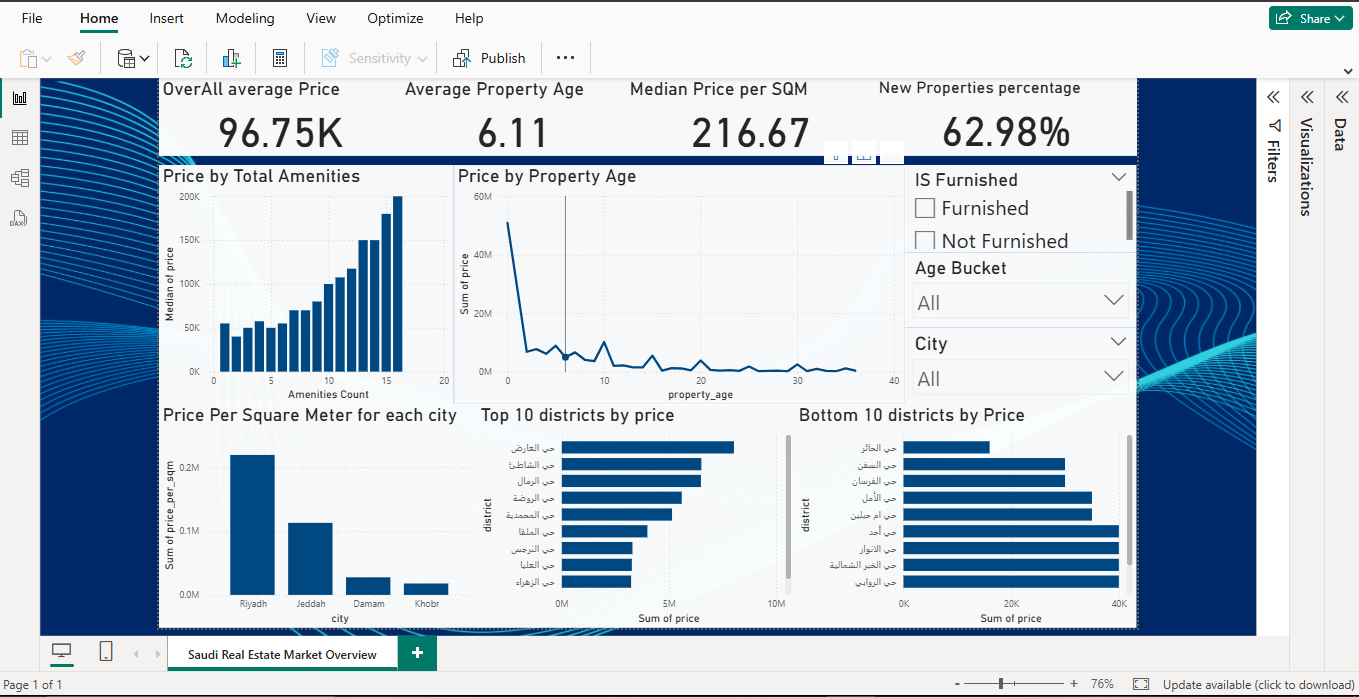

The dashboard page shown, as its layout file describes it:
{"tool":"powerbi","page":{"name":"Saudi Real Estate Market Overview","canvas":[1280,720],"ordinal":0},"visuals":[{"type":"card","title":"OverAll average Price","fields":{"Values":["Avg(SA_Aqar1.price)"]},"box":[0,0,317,101.6],"z":0},{"type":"columnChart","title":"Price Per Square Meter for each city","fields":{"Y":["Sum(SA_Aqar1.price_per_sqm)"],"Category":["SA_Aqar1.city"]},"box":[0,426.7,416.5,292.9],"z":1},{"type":"clusteredBarChart","title":"Top 10 districts by price","fields":{"Y":["Sum(SA_Aqar1.price)"],"Category":["SA_Aqar1.district"]},"box":[416.5,426.7,416.5,292.9],"z":2},{"type":"clusteredBarChart","title":"Bottom 10 districts by Price","fields":{"Y":["Sum(SA_Aqar1.price)"],"Category":["SA_Aqar1.district"]},"box":[833,426.7,447,292.9],"z":3},{"type":"lineChart","title":"Price by Property Age","fields":{"Y":["Sum(SA_Aqar1.price)"],"Category":["SA_Aqar1.property_age"]},"box":[385.9,113.7,590.9,313.5],"z":4},{"type":"clusteredColumnChart","title":"Price by Total Amenities","fields":{"Y":["Median(SA_Aqar1.price)"],"Category":["SA_Aqar1.Amenities Count"]},"box":[0,113.7,385.9,313.5],"z":5},{"type":"slicer","fields":{"Values":["SA_Aqar1.city"]},"box":[976.9,326.8,303.1,99.9],"z":6},{"type":"slicer","fields":{"Values":["SA_Aqar1.Age Bucket"]},"box":[976.9,228.6,303.1,98.2],"z":7},{"type":"slicer","fields":{"Values":["SA_Aqar1.IS Furnished"]},"box":[976.8,113.7,303.2,115.4],"z":8},{"type":"card","title":"Average Property Age","fields":{"Values":["Avg(SA_Aqar1.property_age)"]},"box":[317,0,294.6,101.6],"z":9},{"type":"card","title":"Median Price per SQM","fields":{"Values":["Median(SA_Aqar1.price_per_sqm)"]},"box":[611.6,0,325.6,101.6],"z":10},{"type":"card","title":"New Properties percentage","fields":{"Values":["SA_Aqar1.% New Properties"]},"box":[937.2,0,342.8,101.6],"z":11}]}

Visuals, with their boxes on the page's 1280x720 design canvas (x1, y1, x2, y2). These are canvas units, not pixel positions in the 1359x697 screenshot, which may show the page scaled, cropped or inside an application window:
"OverAll average Price" card: l=0, t=0, r=317, b=102
"Price Per Square Meter for each city" columnChart: l=0, t=427, r=416, b=720
"Top 10 districts by price" clusteredBarChart: l=416, t=427, r=833, b=720
"Bottom 10 districts by Price" clusteredBarChart: l=833, t=427, r=1280, b=720
"Price by Property Age" lineChart: l=386, t=114, r=977, b=427
"Price by Total Amenities" clusteredColumnChart: l=0, t=114, r=386, b=427
slicer - SA_Aqar1.city: l=977, t=327, r=1280, b=427
slicer - SA_Aqar1.Age Bucket: l=977, t=229, r=1280, b=327
slicer - SA_Aqar1.IS Furnished: l=977, t=114, r=1280, b=229
"Average Property Age" card: l=317, t=0, r=612, b=102
"Median Price per SQM" card: l=612, t=0, r=937, b=102
"New Properties percentage" card: l=937, t=0, r=1280, b=102
